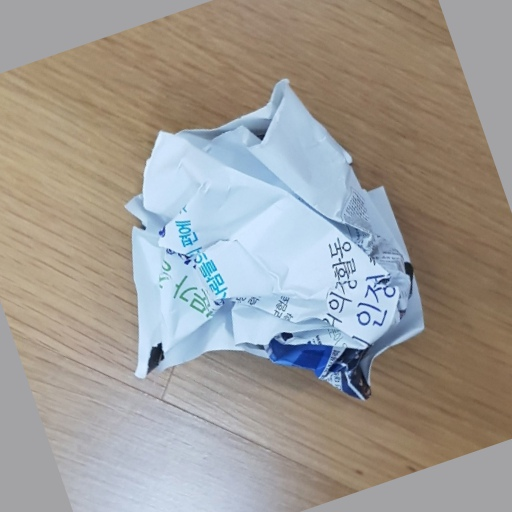Paper_3: (116, 79, 441, 416)
